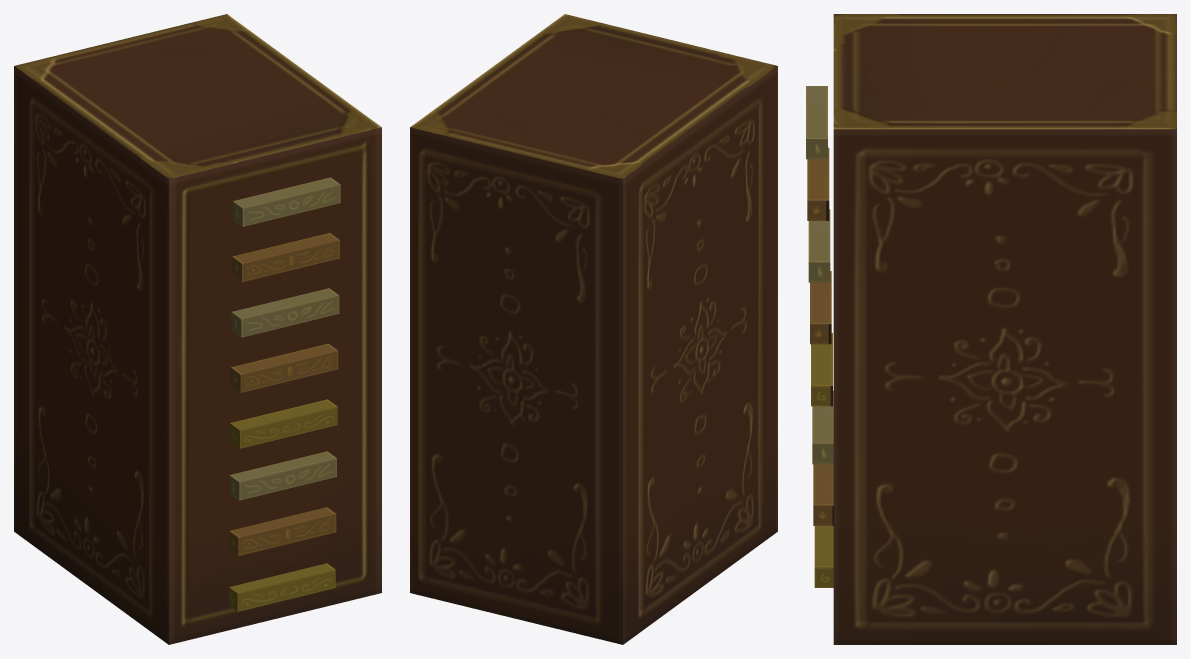
File: FallingPlatform.fbx
3 renders of one model, left to right at view 1: azimuth 30°, elevation 25°; view 2: azimuth 150°, elevation 25°; view 3: azimuth 270°, elevation 25°, orthographic. The views are drawn at different scales.
Visible parts, largest first — view 1: FallingPlatform_lvl5, PlatformStep6, PlatformStep5, PlatformStep4, PlatformStep7, PlatformStep8, PlatformStep3, PlatformStep2, PlatformStep1; view 2: FallingPlatform_lvl5; view 3: FallingPlatform_lvl5, PlatformStep8, PlatformStep6, PlatformStep7, PlatformStep4, PlatformStep5, PlatformStep3, PlatformStep2, PlatformStep1.
Boxes of the visible parts, bbox=[...] form: FallingPlatform_lvl5: bbox=[14, 14, 381, 644]; PlatformStep6: bbox=[231, 288, 339, 337]; PlatformStep5: bbox=[230, 343, 338, 392]; PlatformStep4: bbox=[230, 399, 337, 448]; PlatformStep7: bbox=[232, 233, 339, 282]; PlatformStep8: bbox=[233, 177, 340, 226]; PlatformStep3: bbox=[229, 451, 336, 500]; PlatformStep2: bbox=[229, 507, 336, 555]; PlatformStep1: bbox=[229, 563, 335, 611]; FallingPlatform_lvl5: bbox=[410, 14, 777, 644]; FallingPlatform_lvl5: bbox=[833, 14, 1176, 644]; PlatformStep8: bbox=[806, 86, 827, 159]; PlatformStep6: bbox=[808, 209, 830, 282]; PlatformStep7: bbox=[807, 147, 829, 220]; PlatformStep4: bbox=[811, 333, 832, 406]; PlatformStep5: bbox=[810, 271, 831, 344]; PlatformStep3: bbox=[812, 390, 833, 464]; PlatformStep2: bbox=[813, 464, 833, 525]; PlatformStep1: bbox=[814, 526, 833, 587].
Bounding box in the file's own units: 21.09 × 44.04 × 28.69.
